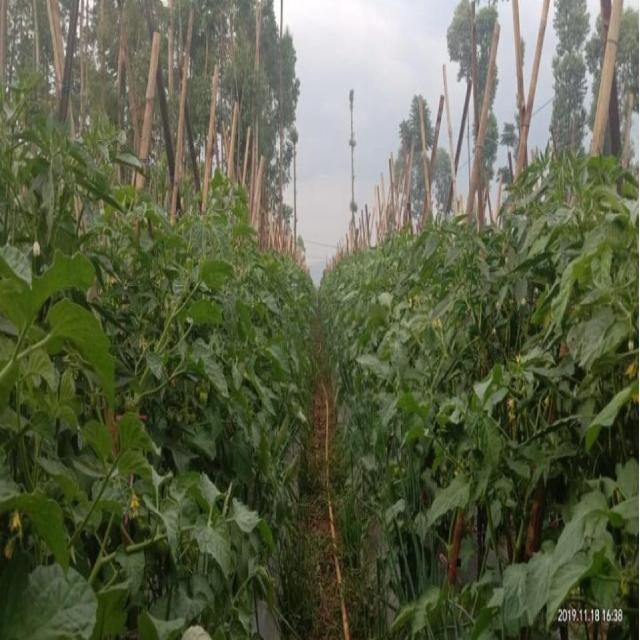row: (271, 300, 391, 640)
